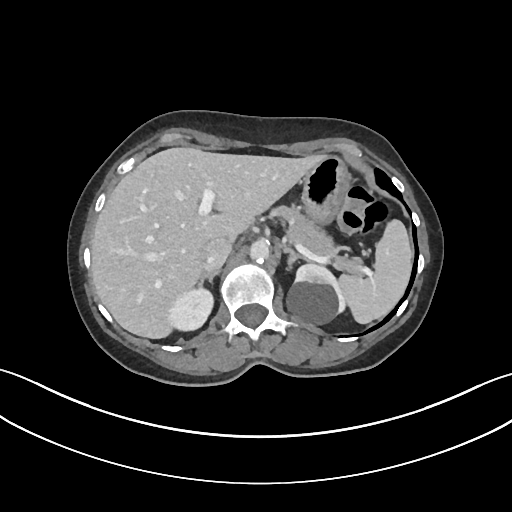Lesion: (284, 280, 342, 326)
